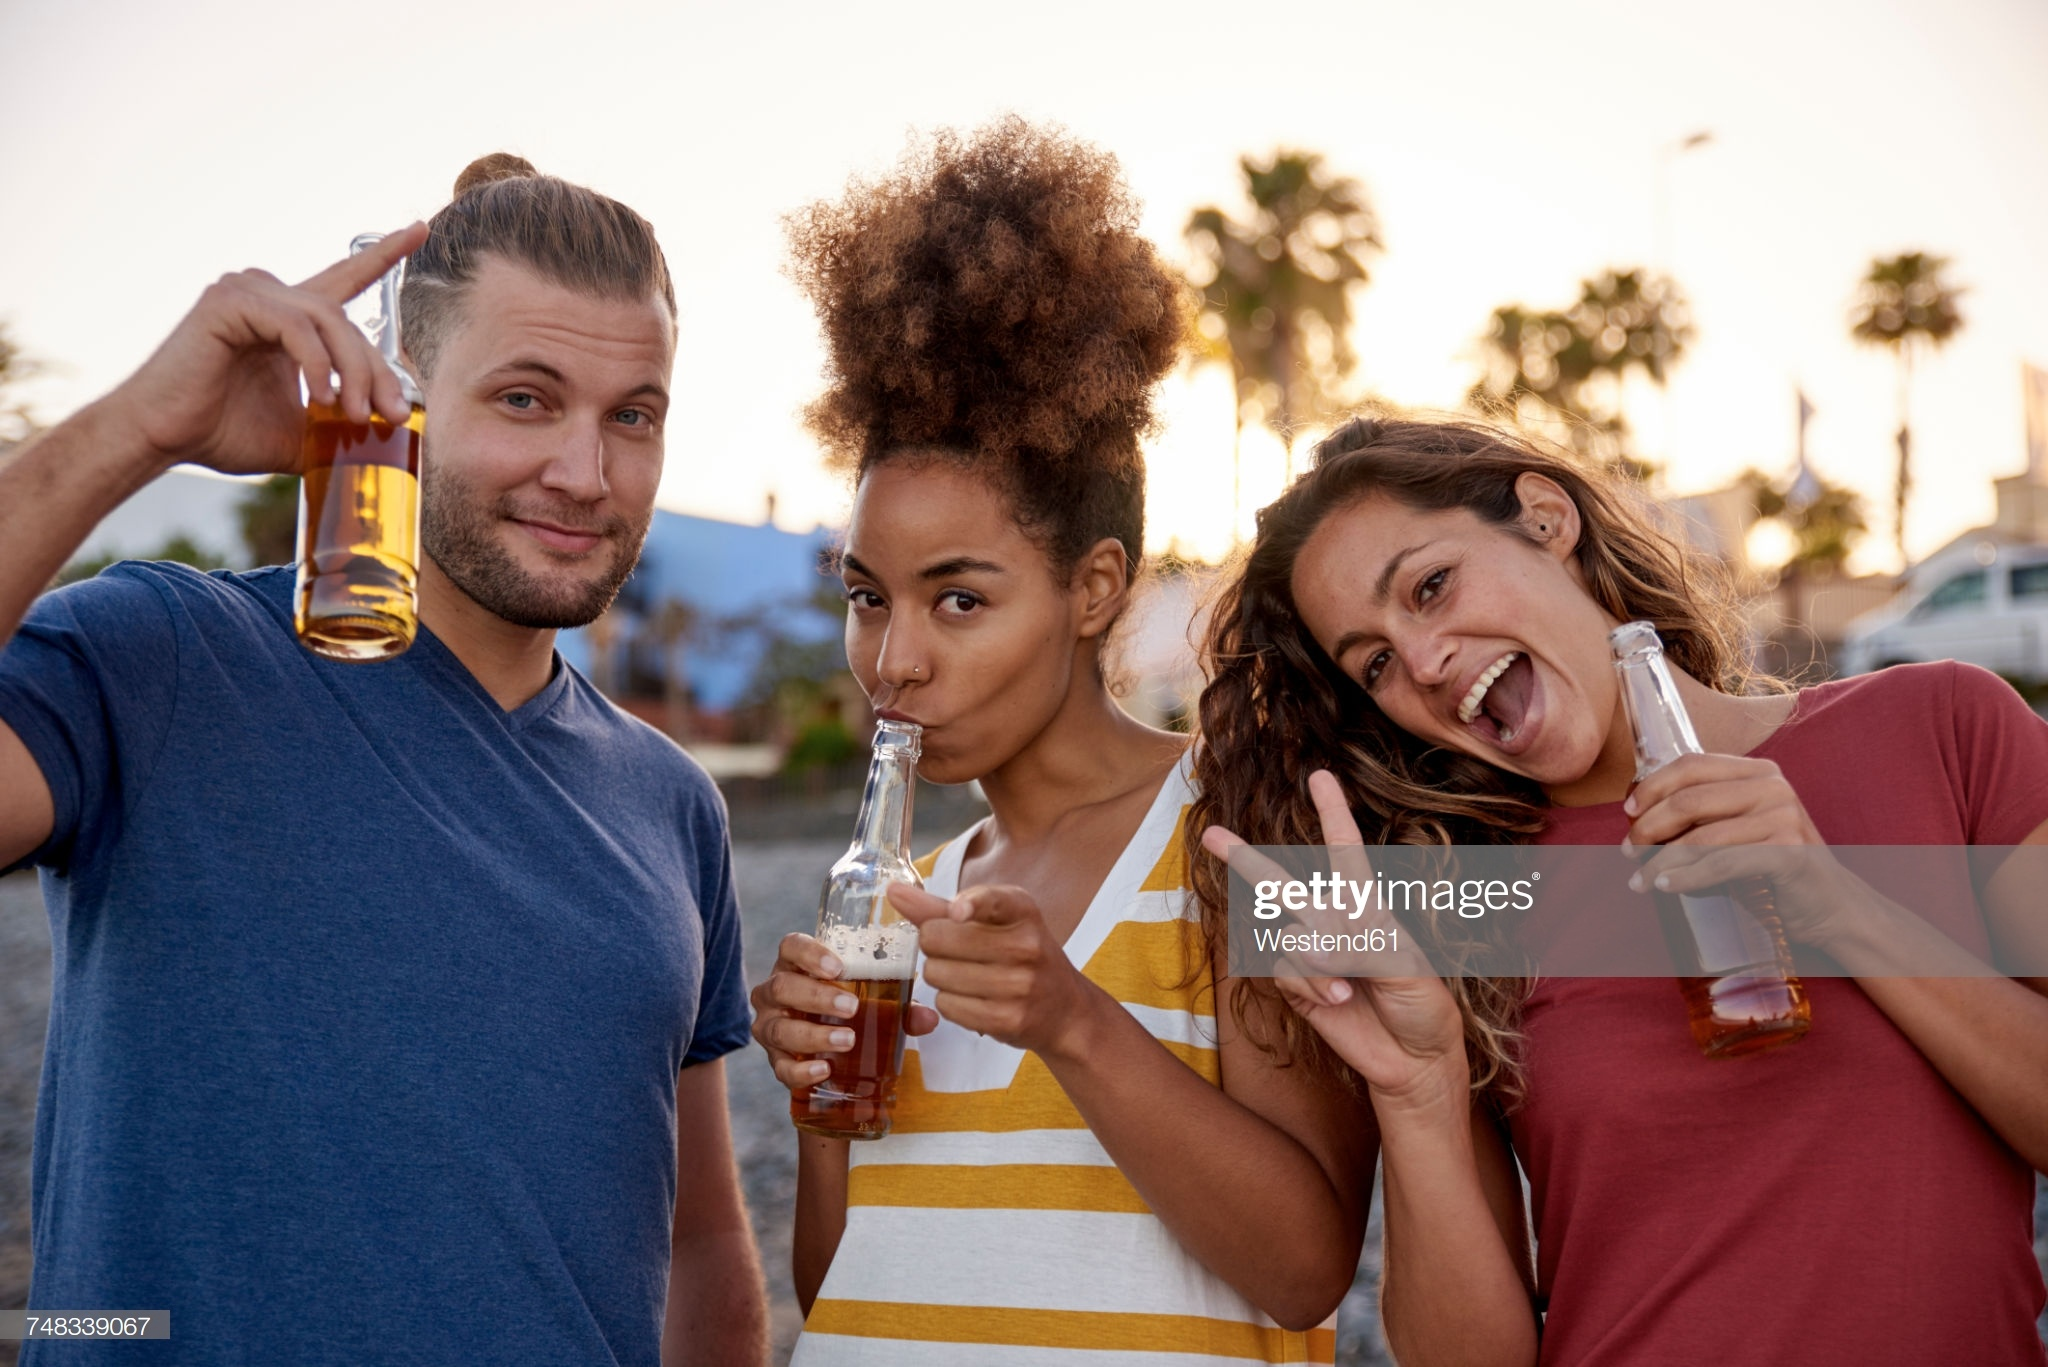beerBottle: (1598, 616, 1813, 1054), (788, 712, 929, 1124), (297, 230, 413, 664)
